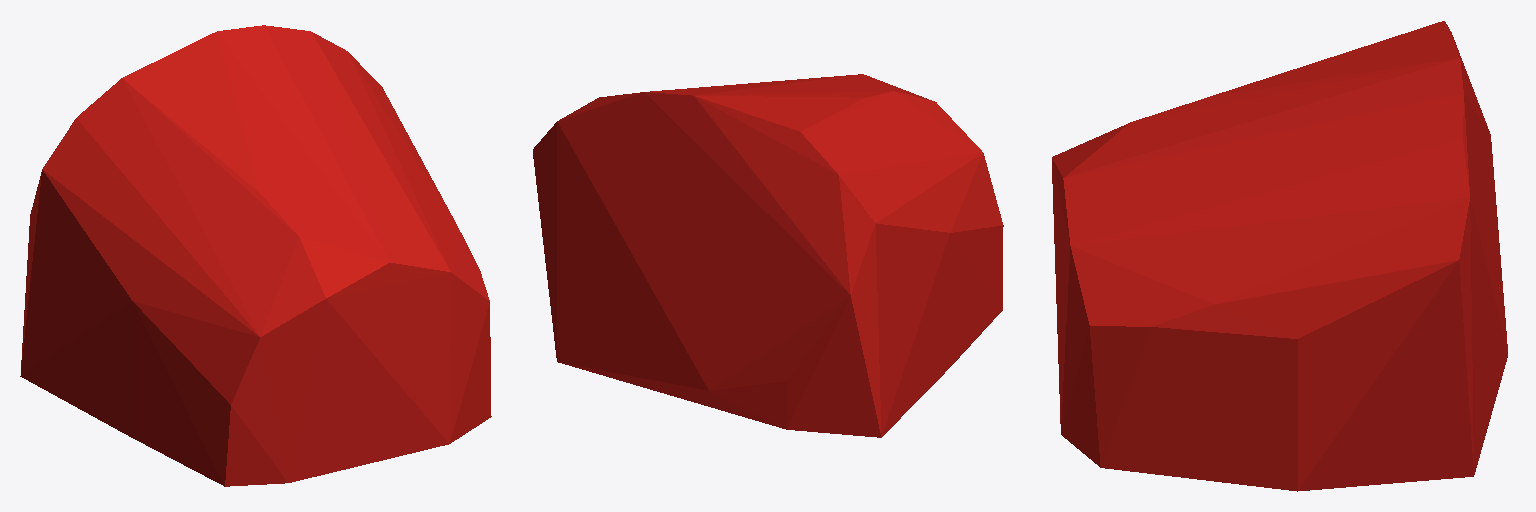
robot.urdf — obj_01:
<?xml version="1.0"?>
<robot name="obj_01">
  <!-- plastic cup: plastic, 34 g. Written by Darius 0.2.0. Link frame: +z up, origin at the capture-time bounding-box center; place it at the pose in world.json -->
  <mujoco>
    <compiler meshdir="../meshes/" discardvisual="true" balanceinertia="true" fusestatic="false" />
  </mujoco>
  <link name="obj_01">
    <inertial>
      <origin xyz="0.00366 0.00148 -0.00233" rpy="0 0 0" />
      <mass value="0.0338" />
      <inertia ixx="8.50326e-05" ixy="8.63072e-07" ixz="7.22836e-06" iyy="8.18419e-05" iyz="-1.14719e-05" izz="0.000106454" />
    </inertial>
    <visual>
      <geometry>
        <mesh filename="../meshes/obj_01_visual.obj" />
      </geometry>
      <material name="obj_01_color">
        <color rgba="0.816 0.165 0.141 1" />
      </material>
    </visual>
    <collision name="obj_01_part0">
      <geometry>
        <mesh filename="../meshes/obj_01_part0.obj" />
      </geometry>
    </collision>
    <collision name="obj_01_part1">
      <geometry>
        <mesh filename="../meshes/obj_01_part1.obj" />
      </geometry>
    </collision>
    <collision name="obj_01_part2">
      <geometry>
        <mesh filename="../meshes/obj_01_part2.obj" />
      </geometry>
    </collision>
    <collision name="obj_01_part3">
      <geometry>
        <mesh filename="../meshes/obj_01_part3.obj" />
      </geometry>
    </collision>
    <collision name="obj_01_part4">
      <geometry>
        <mesh filename="../meshes/obj_01_part4.obj" />
      </geometry>
    </collision>
    <collision name="obj_01_part5">
      <geometry>
        <mesh filename="../meshes/obj_01_part5.obj" />
      </geometry>
    </collision>
    <collision name="obj_01_part6">
      <geometry>
        <mesh filename="../meshes/obj_01_part6.obj" />
      </geometry>
    </collision>
    <collision name="obj_01_part7">
      <geometry>
        <mesh filename="../meshes/obj_01_part7.obj" />
      </geometry>
    </collision>
    <contact>
      <lateral_friction value="0.4" />
      <restitution value="0.2" />
    </contact>
  </link>
</robot>

--- Facts derived from the render (not from the file) ---
The picture shows the robot from 3 angles, left to right: view 1: azimuth 30°, elevation 25°; view 2: azimuth 150°, elevation 25°; view 3: azimuth 270°, elevation 25°; orthographic projection.
Robot: obj_01 — 1 links, 0 joints (none); root link obj_01; default pose: every joint at zero.
Visible links, largest first — view 1: obj_01; view 2: obj_01; view 3: obj_01.
Link boxes in pixels (x1=…): obj_01: x1=20, y1=25, x2=491, y2=486; obj_01: x1=533, y1=74, x2=1003, y2=437; obj_01: x1=1052, y1=21, x2=1507, y2=491.
Bounding box of the posed robot: 0.1153 × 0.1108 × 0.0921 m (x, y, z).
1 mesh visuals loaded from 1 distinct referenced files (1 OBJ).
